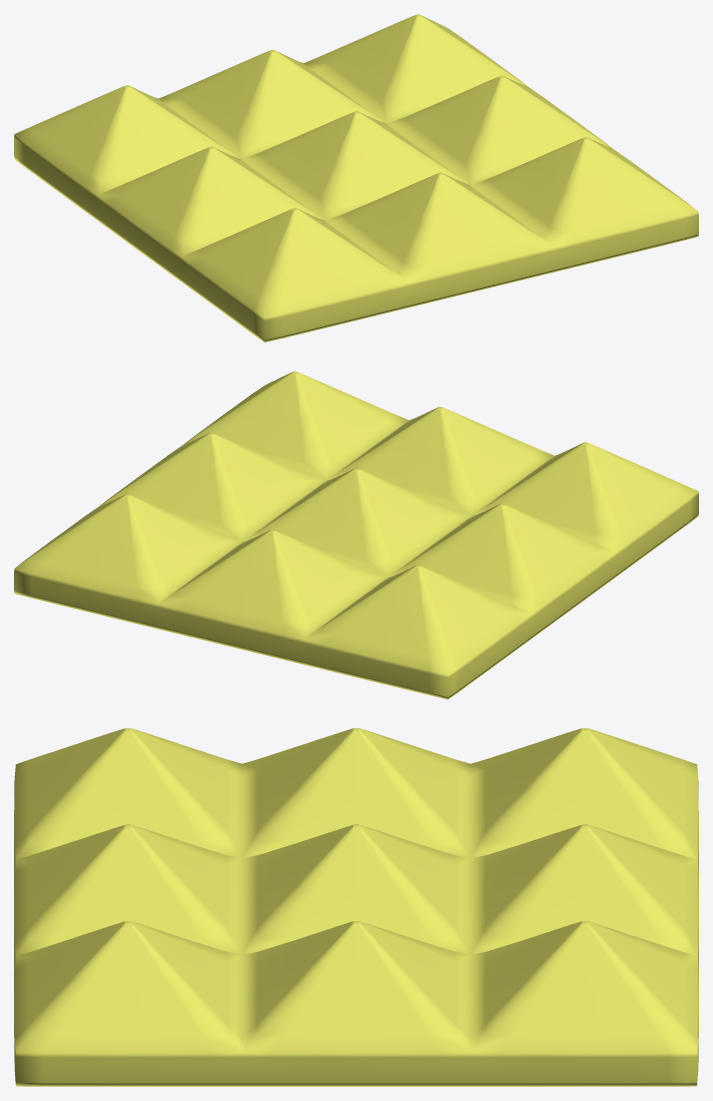
Rendered from engel_1.fbx.
3 views of the same model, one above another, from view 1: azimuth 30°, elevation 25°; view 2: azimuth 150°, elevation 25°; view 3: azimuth 270°, elevation 25° (orthographic). The views are drawn at different scales.
Visible parts, largest first — view 1: pasted__engel1; view 2: pasted__engel1; view 3: pasted__engel1.
Part boxes in pixels (x1=…): pasted__engel1: x1=14, y1=14, x2=698, y2=342; pasted__engel1: x1=14, y1=371, x2=698, y2=699; pasted__engel1: x1=14, y1=728, x2=698, y2=1086.
Bounding box in the file's own units: 93.33 × 17.58 × 93.33.
